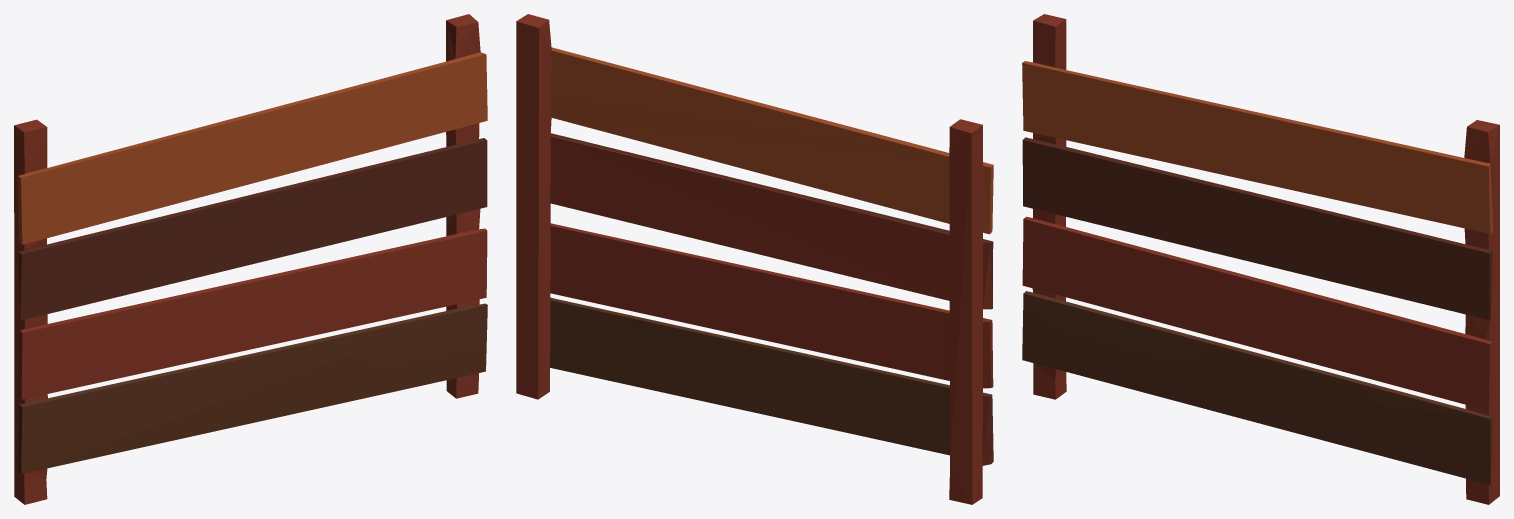
File: Fence.fbx
The picture shows the model from 3 angles, left to right: view 1: azimuth 30°, elevation 25°; view 2: azimuth 150°, elevation 25°; view 3: azimuth 330°, elevation 25°; orthographic projection.
Visible parts, largest first — view 1: Fence; view 2: Fence; view 3: Fence.
Boxes of the visible parts, x1,y1,x2,y2 form: Fence: [14, 14, 487, 504]; Fence: [516, 14, 993, 504]; Fence: [1022, 14, 1499, 504].
Size of the model in its own units: 1.01 by 0.7712 by 0.0556.
